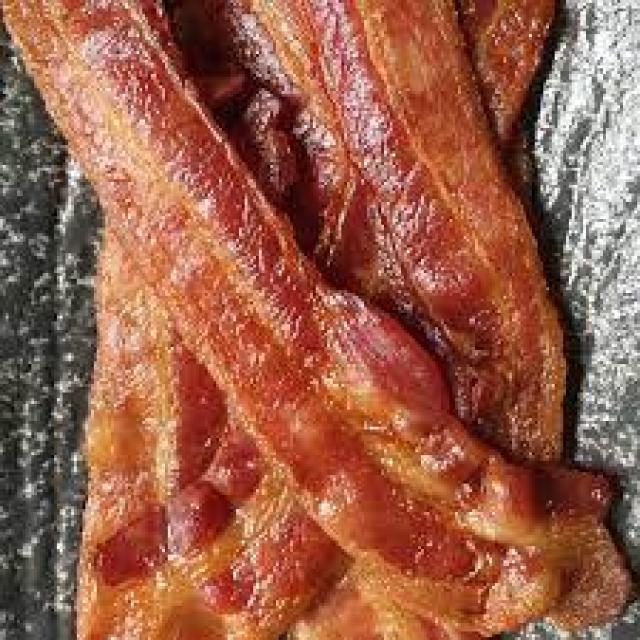Bacon: (7, 0, 621, 640), (234, 1, 562, 461)
